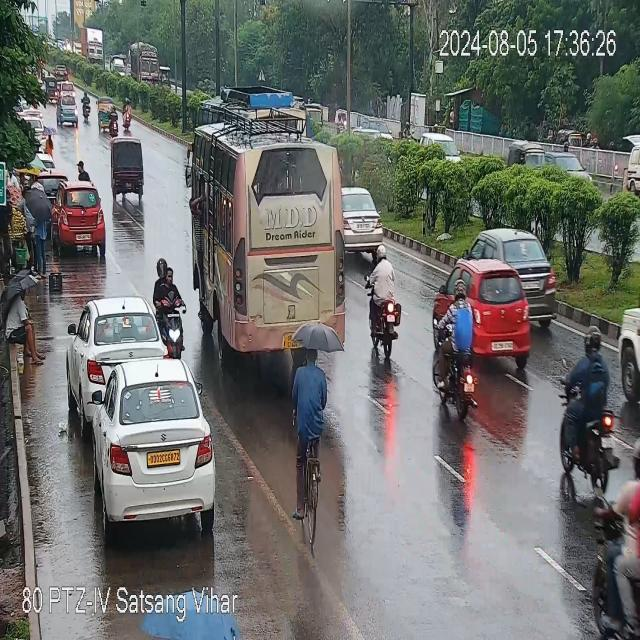2-wheelers: (589, 423, 640, 640), (559, 326, 616, 498), (289, 342, 331, 505), (428, 289, 479, 419), (364, 250, 399, 351), (153, 256, 185, 351), (122, 100, 135, 127), (81, 94, 92, 121)
auto: (110, 140, 148, 197), (97, 103, 118, 132)
bus: (195, 128, 348, 357)
car: (80, 355, 212, 525), (440, 262, 539, 366), (70, 297, 174, 396), (454, 231, 560, 308), (534, 143, 597, 196), (340, 185, 386, 255), (618, 280, 640, 424), (54, 190, 106, 248), (419, 126, 461, 166), (57, 89, 79, 128)
pedestrian: (2, 288, 44, 364), (75, 157, 96, 191)
truck: (79, 21, 107, 68), (134, 55, 161, 84)
